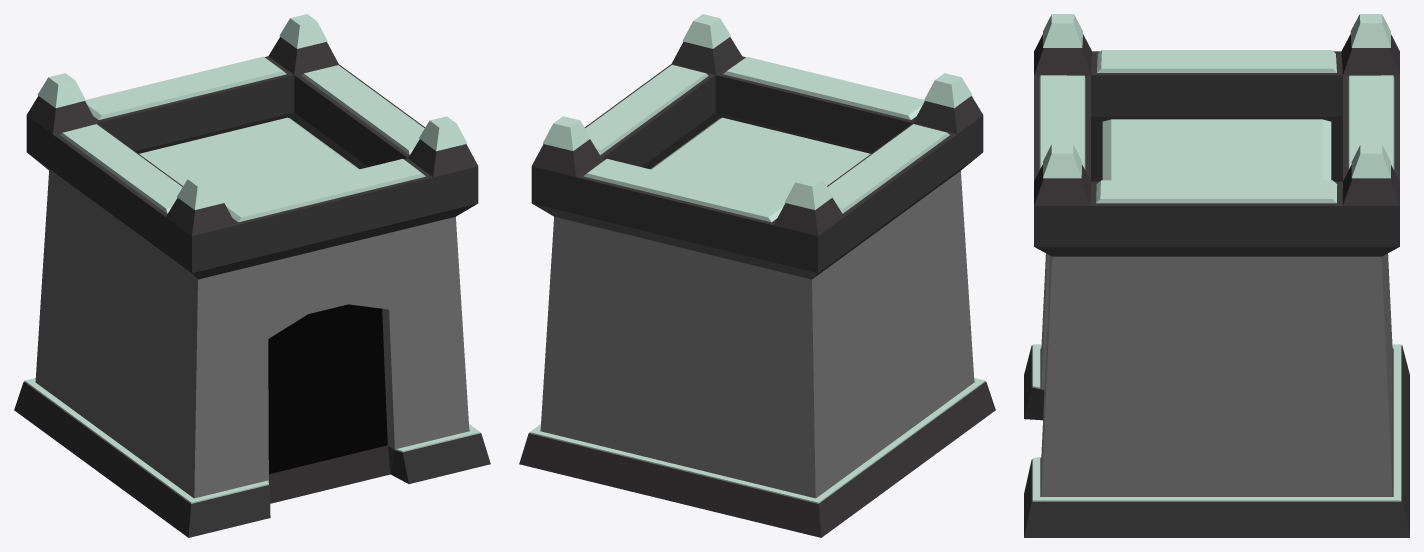
The model's file is winter-castle.glb.
The picture shows the model from 3 angles, left to right: view 1: azimuth 30°, elevation 25°; view 2: azimuth 150°, elevation 25°; view 3: azimuth 270°, elevation 25°; orthographic projection. The views are drawn at different scales.
Visible parts, largest first — view 1: WinterCastle; view 2: WinterCastle; view 3: WinterCastle.
Part boxes in pixels (x1,y1,x2,y2): WinterCastle: [14, 14, 490, 537]; WinterCastle: [519, 14, 995, 537]; WinterCastle: [1024, 14, 1409, 537].
Size of the model in its own units: 597 by 637 by 597.
Materials: 1 (1 with a texture image).
